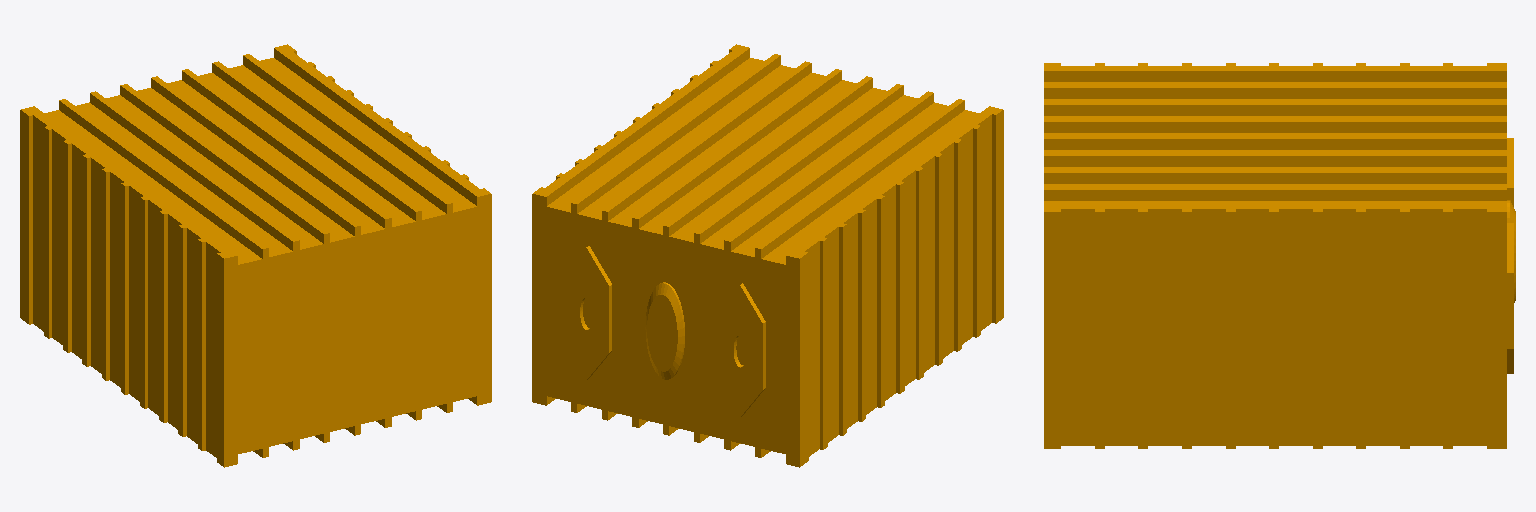
The robot description file, URDF, robot "battery":
<?xml version="1.0"?>
<robot name="battery">
    <link name="battery">
        <visual>
            <geometry>
                <!-- <mesh filename="../mesh/TVB_mesh/box1_high.obj" scale="1.5 1.5 1.5"/>       -->
                <mesh filename="../mesh/TVB_mesh/battery.obj" scale="0.4 0.4 0.4"/>                 
            </geometry>
            <!-- <material name="CardboardYellow">
                <color rgba="0.76 0.6 0.42 1"/>
            </material> -->
        </visual>
        <collision>
            <geometry>
                <mesh filename="../mesh/TVB_mesh/battery.obj" scale="0.4 0.4 0.4"/>                
            </geometry>
            <sdf resolution="64"/>
        </collision>
    </link>
</robot>

--- Render facts (derived) ---
3 views of the same robot in one strip: view 1: azimuth 30°, elevation 25°; view 2: azimuth 150°, elevation 25°; view 3: azimuth 270°, elevation 25° (orthographic).
Robot: battery — 1 links, 0 joints (none); root link battery; default pose: every joint at zero.
Links seen in each view (by area): view 1: battery; view 2: battery; view 3: battery.
Link boxes in pixels (box(x1,y1,x2,y2)): battery: box(20, 44, 491, 467); battery: box(532, 44, 1003, 467); battery: box(1044, 63, 1515, 448).
Bounding box of the posed robot: 0.0418 × 0.0562 × 0.0312 m (x, y, z).
Meshes: 1 distinct files referenced, 1 mesh visuals loaded (1 OBJ).
